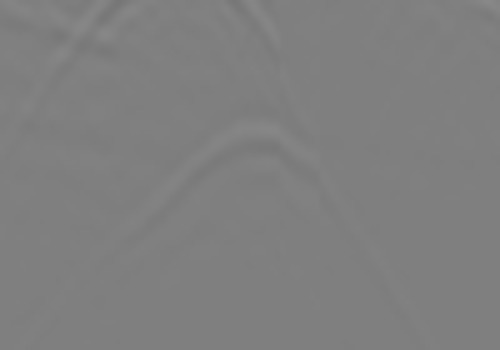hyperbola: (76, 117, 422, 330)
